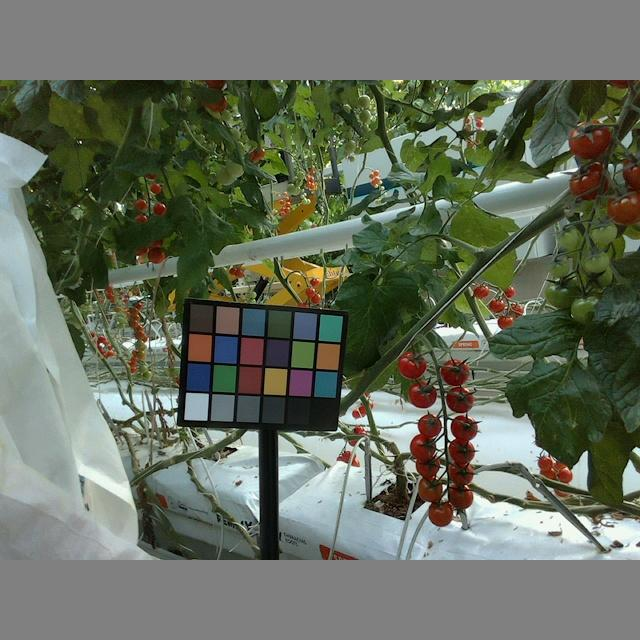green: (544, 275, 583, 309), (573, 297, 608, 323), (581, 249, 611, 272), (556, 226, 583, 250), (590, 224, 618, 247), (546, 257, 570, 278)
pink: (566, 123, 612, 159), (569, 165, 611, 202), (606, 187, 640, 229), (425, 499, 454, 526), (445, 482, 473, 509), (444, 461, 477, 482), (418, 475, 443, 502)
red: (407, 378, 438, 408), (397, 351, 427, 381), (449, 413, 478, 442), (446, 386, 475, 414), (439, 359, 470, 383), (409, 433, 435, 461), (415, 414, 441, 437), (449, 440, 473, 464), (414, 455, 439, 478)
